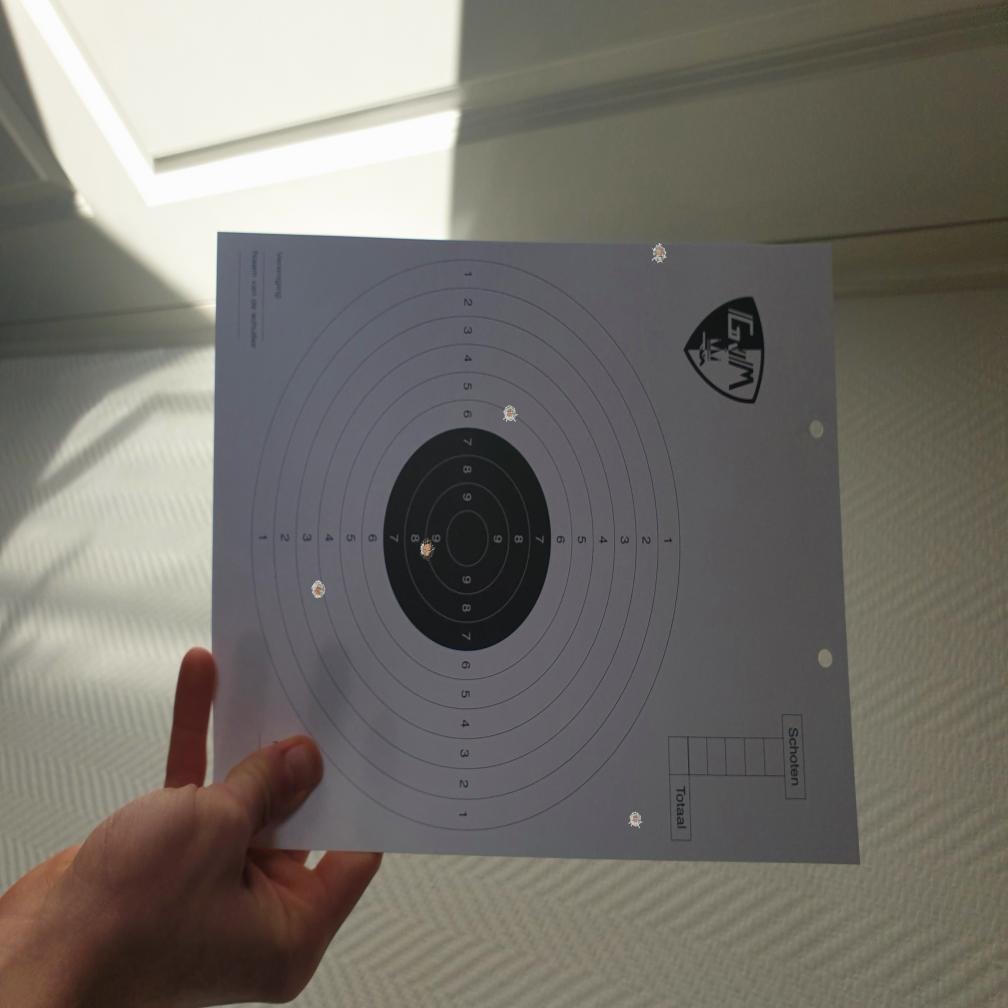0: (652, 244, 667, 264), (629, 811, 643, 831)
4: (312, 580, 325, 599)
6: (503, 405, 518, 423)
9: (420, 538, 435, 561)
Target: (250, 258, 680, 834)
black_contour: (382, 427, 552, 652)
